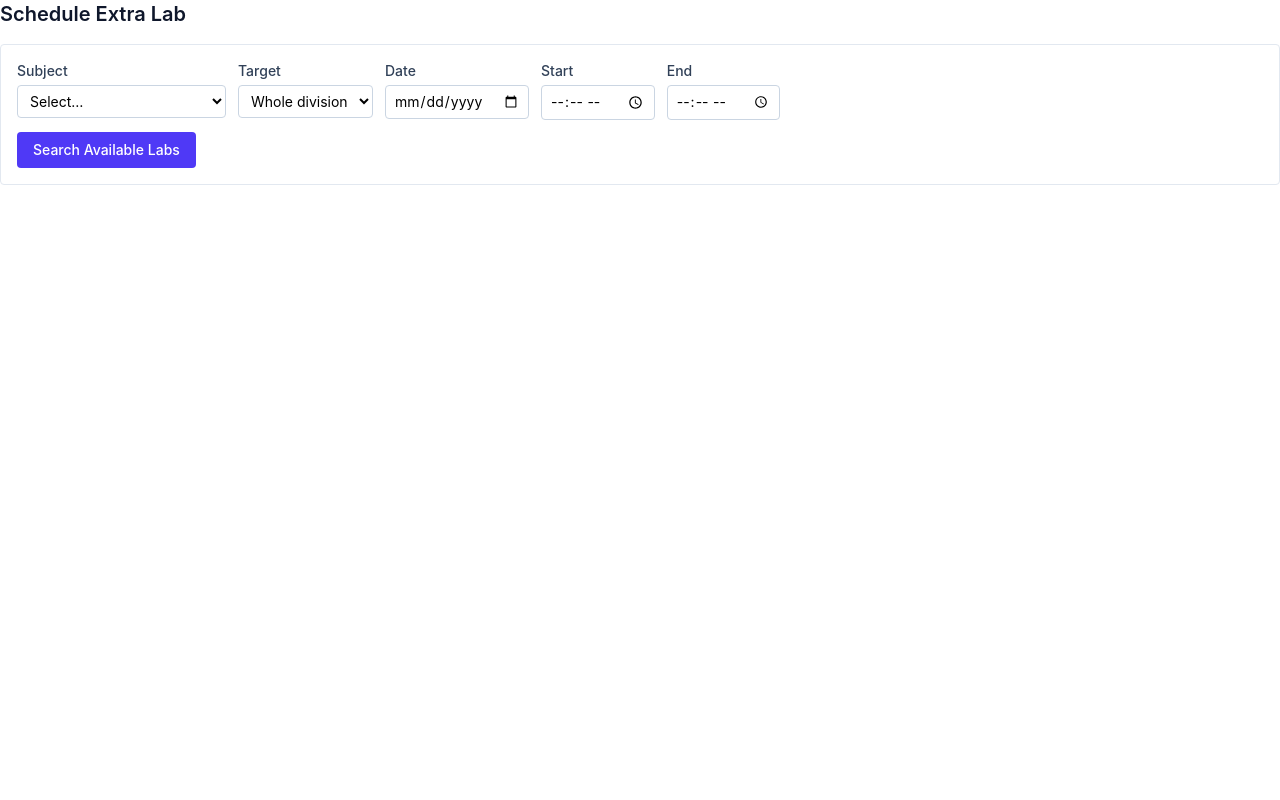
Test case: ScheduleExtraLabPage › PART 70 (mandatory) - a 409 FCFS conflict shows a clear message, never a success state, and offers Search Again
Select "BDA — Big Data Analytics" in the dropdown labelled "Subject": (122, 102) [17,85,226,118]
In the date field labelled "Date": (457, 102) [385,85,529,119], type "2026-08-31"
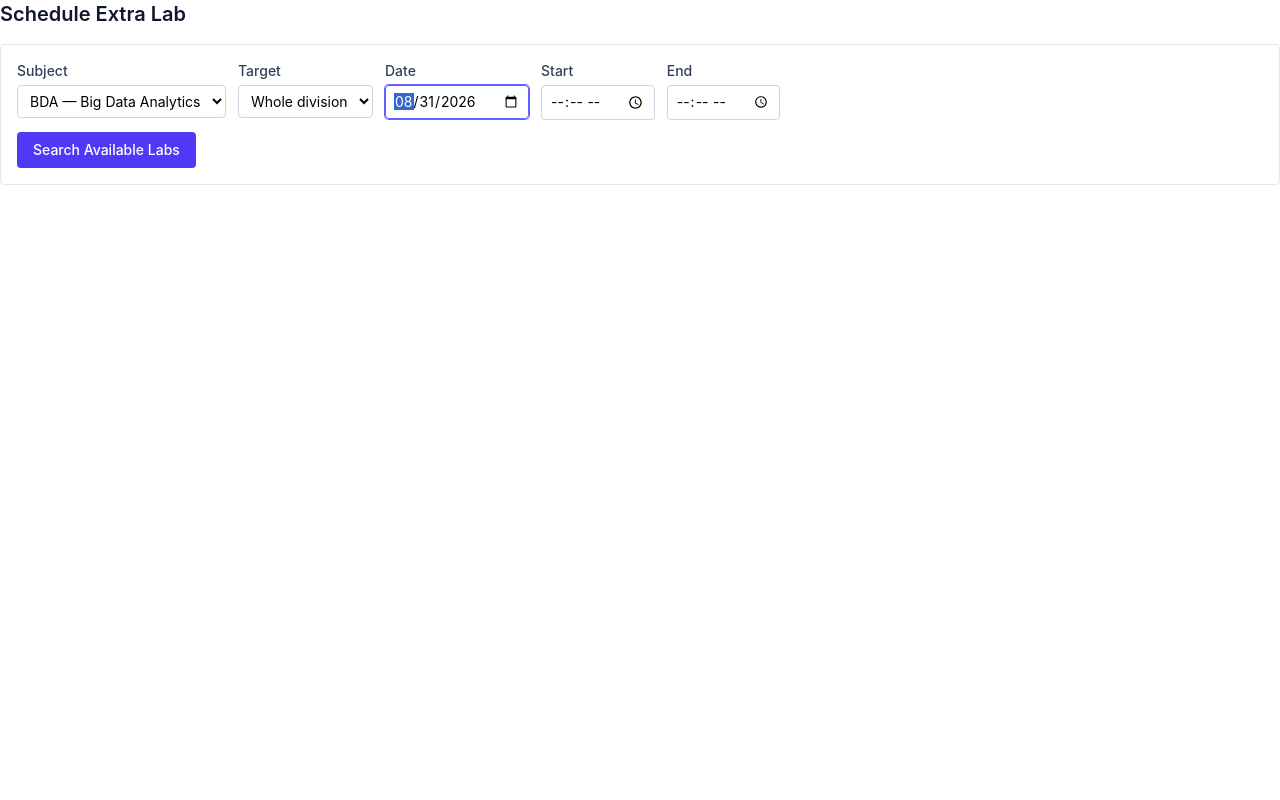
In the time field labelled "Start": (598, 102) [541,85,655,120], type "09:00"
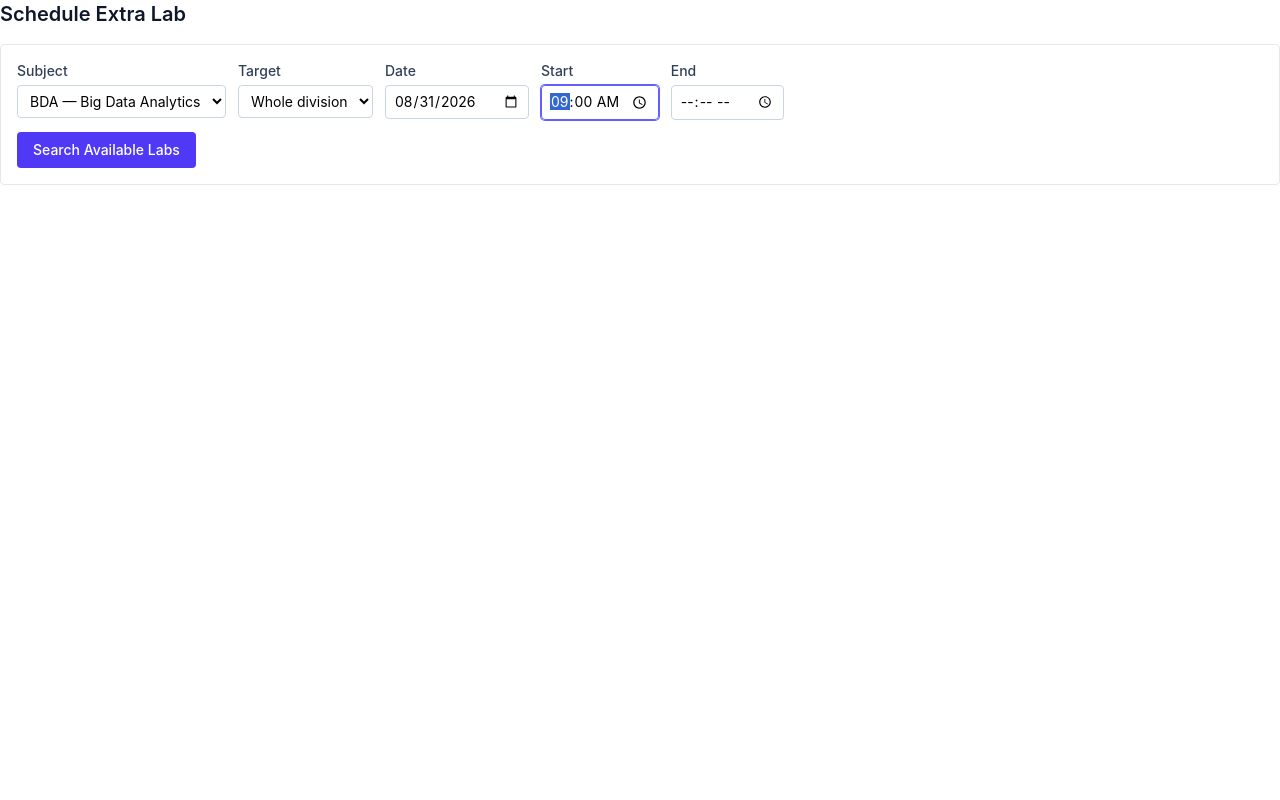
In the time field labelled "End": (728, 102) [671,85,784,120], type "11:00"
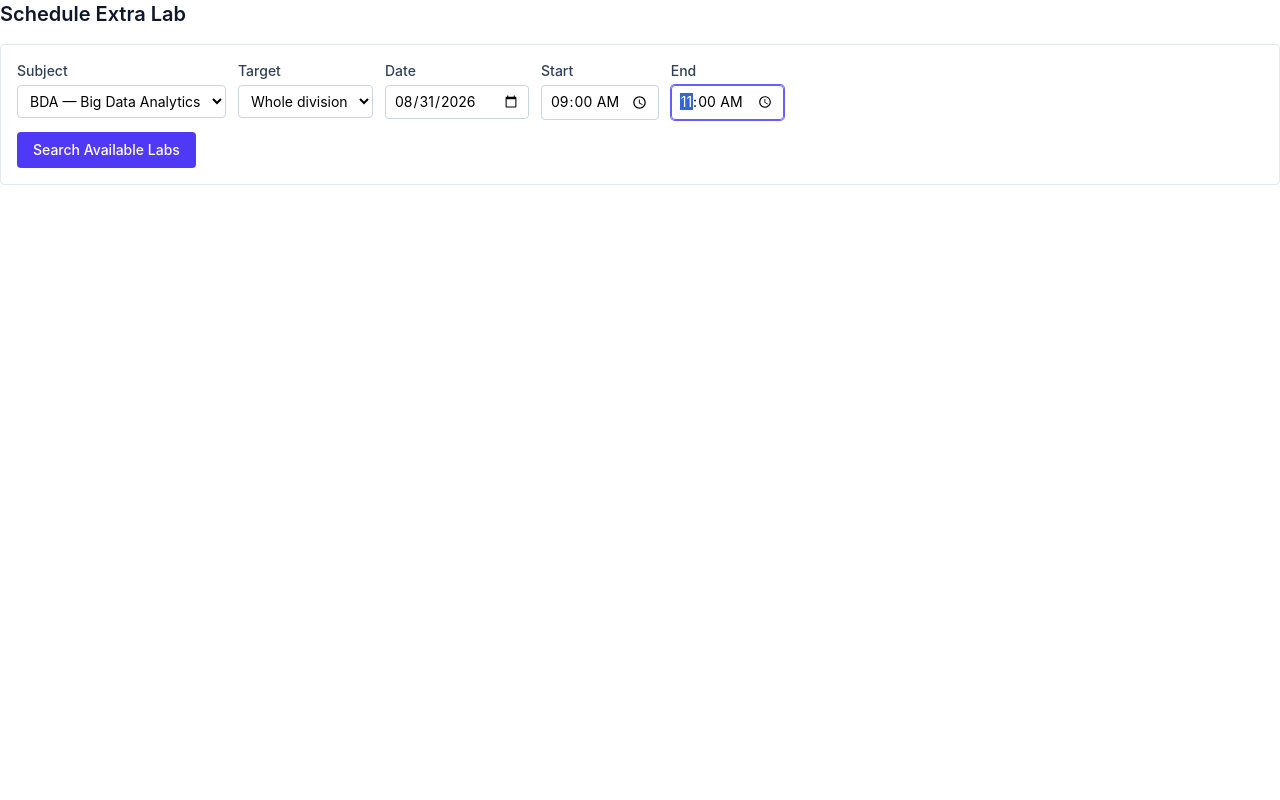
Click the button "Search Available Labs": (106, 150) [17,132,196,168]
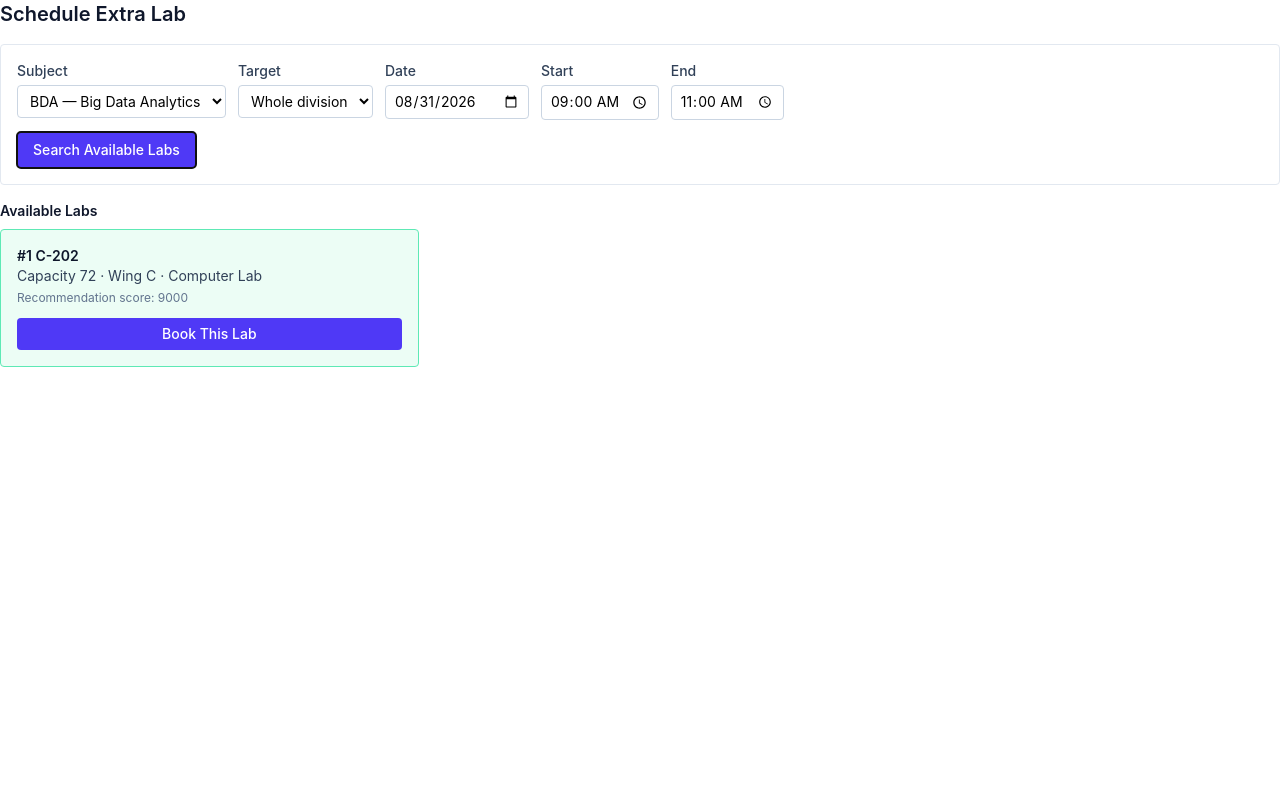
Click the button "Book This Lab": (209, 334) [17,318,402,350]
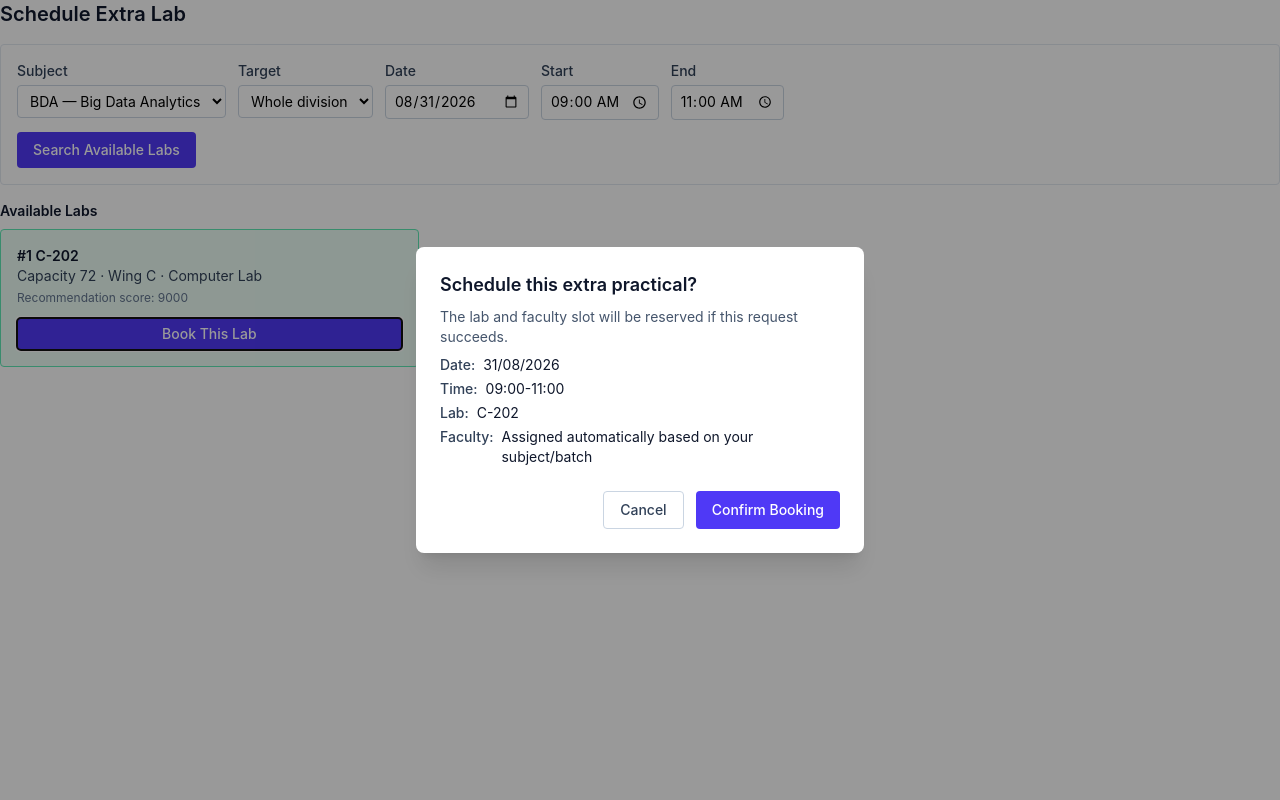
Click the button "Confirm Booking": (768, 510) [696,491,840,529]
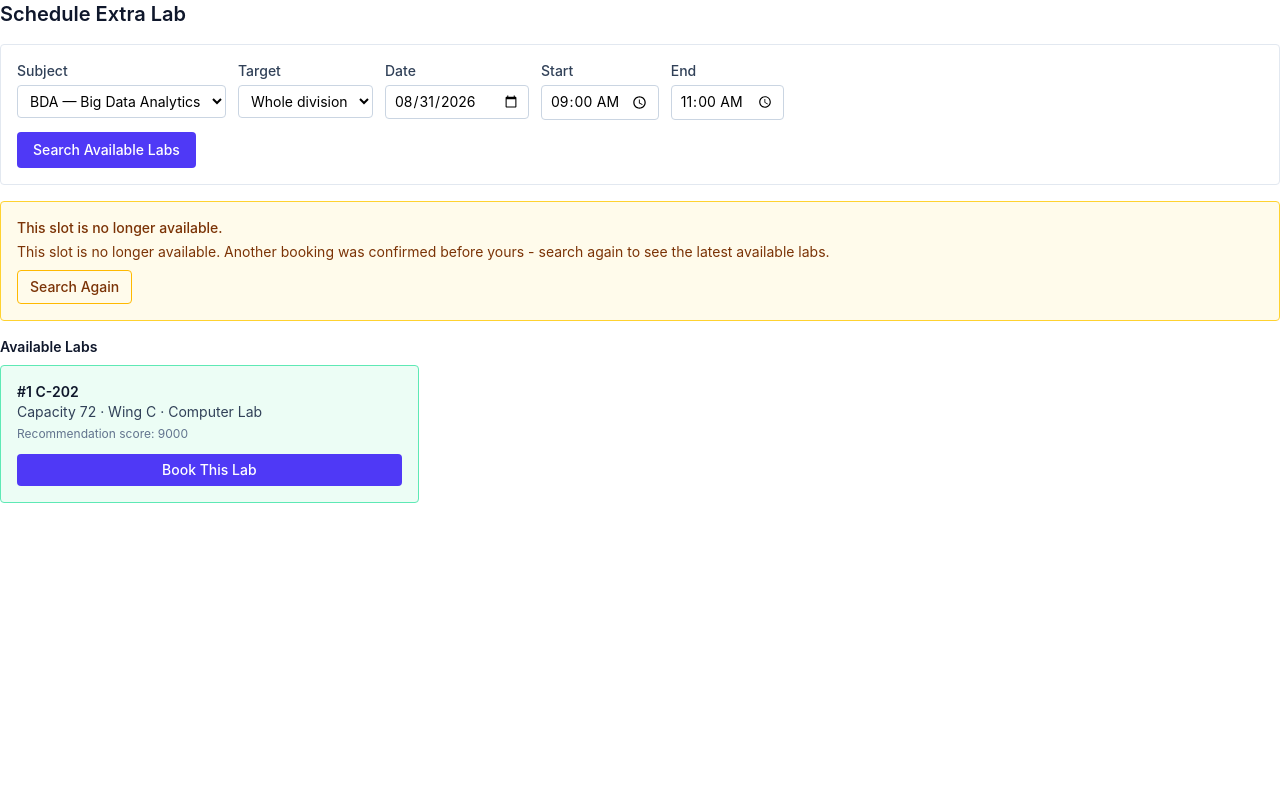
expect the message shows "This slot is no longer available": met, box [17,219,222,236]
expect the button "Search Again" is shown: met, box [17,270,132,304]
